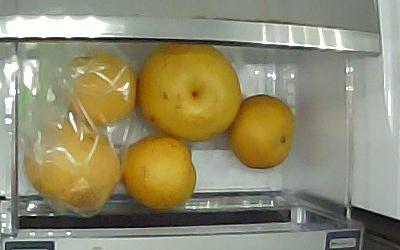pear: (138, 44, 241, 140), (120, 134, 196, 210), (231, 94, 298, 170)
pear_vinyl: (26, 120, 121, 212), (62, 55, 139, 126)
